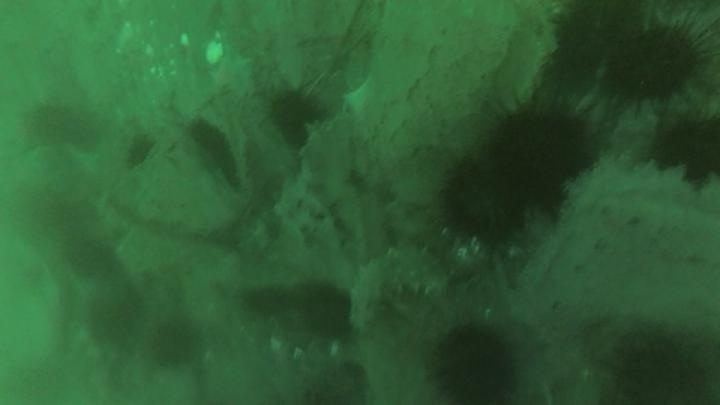echinus: (483, 100, 596, 206), (601, 20, 708, 107), (609, 327, 712, 404), (439, 159, 529, 247), (430, 326, 518, 404), (552, 2, 645, 72), (649, 111, 720, 187), (28, 98, 100, 150), (267, 86, 326, 147), (296, 284, 355, 341), (86, 289, 140, 347), (149, 317, 200, 368), (63, 234, 117, 280), (241, 284, 290, 319)
holothurian: (350, 247, 452, 320), (300, 116, 358, 210)
starfish: (206, 46, 257, 100)
